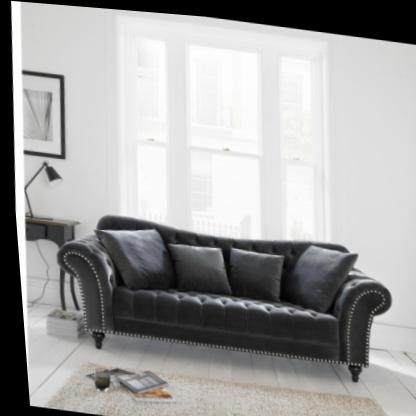Sofa: (44, 205, 394, 381)
